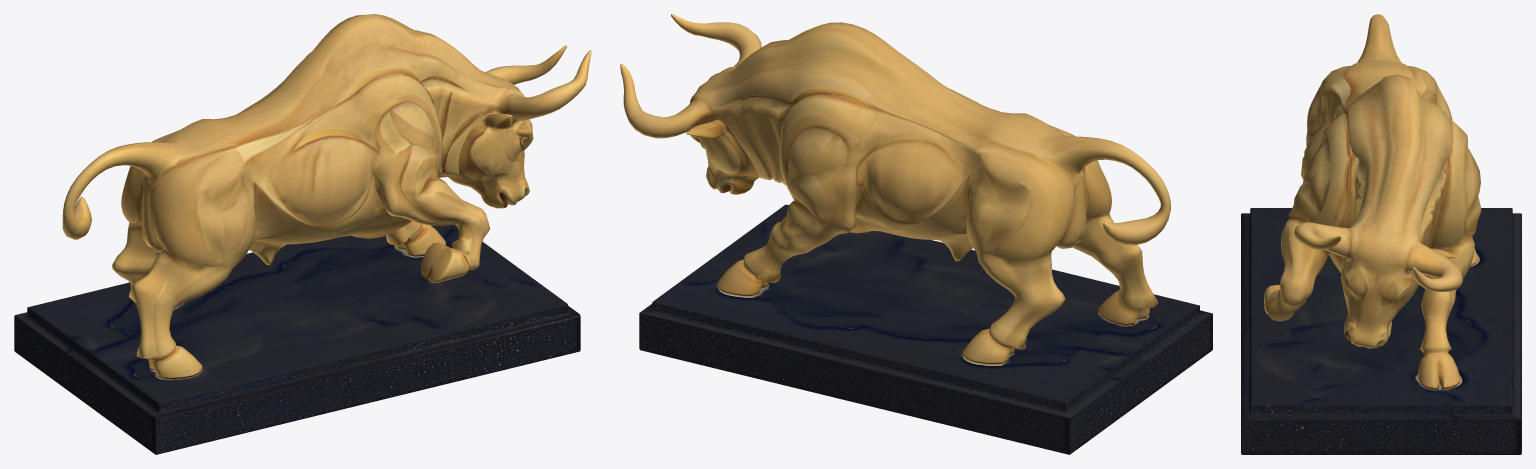
The model's file is bull.glb.
3 views of the same model, side by side, from view 1: azimuth 30°, elevation 25°; view 2: azimuth 150°, elevation 25°; view 3: azimuth 270°, elevation 25° (orthographic). The views are drawn at different scales.
Visible parts, largest first — view 1: tripo_node_e78ada8f; view 2: tripo_node_e78ada8f; view 3: tripo_node_e78ada8f.
Part boxes in pixels (box(x1,y1,x2,y2)): tripo_node_e78ada8f: box(14, 14, 591, 454); tripo_node_e78ada8f: box(620, 14, 1212, 454); tripo_node_e78ada8f: box(1241, 14, 1521, 454).
Bounding box in the file's own units: 0.9995 × 0.5708 × 0.4692.
Materials: 1 (1 with a texture image).
